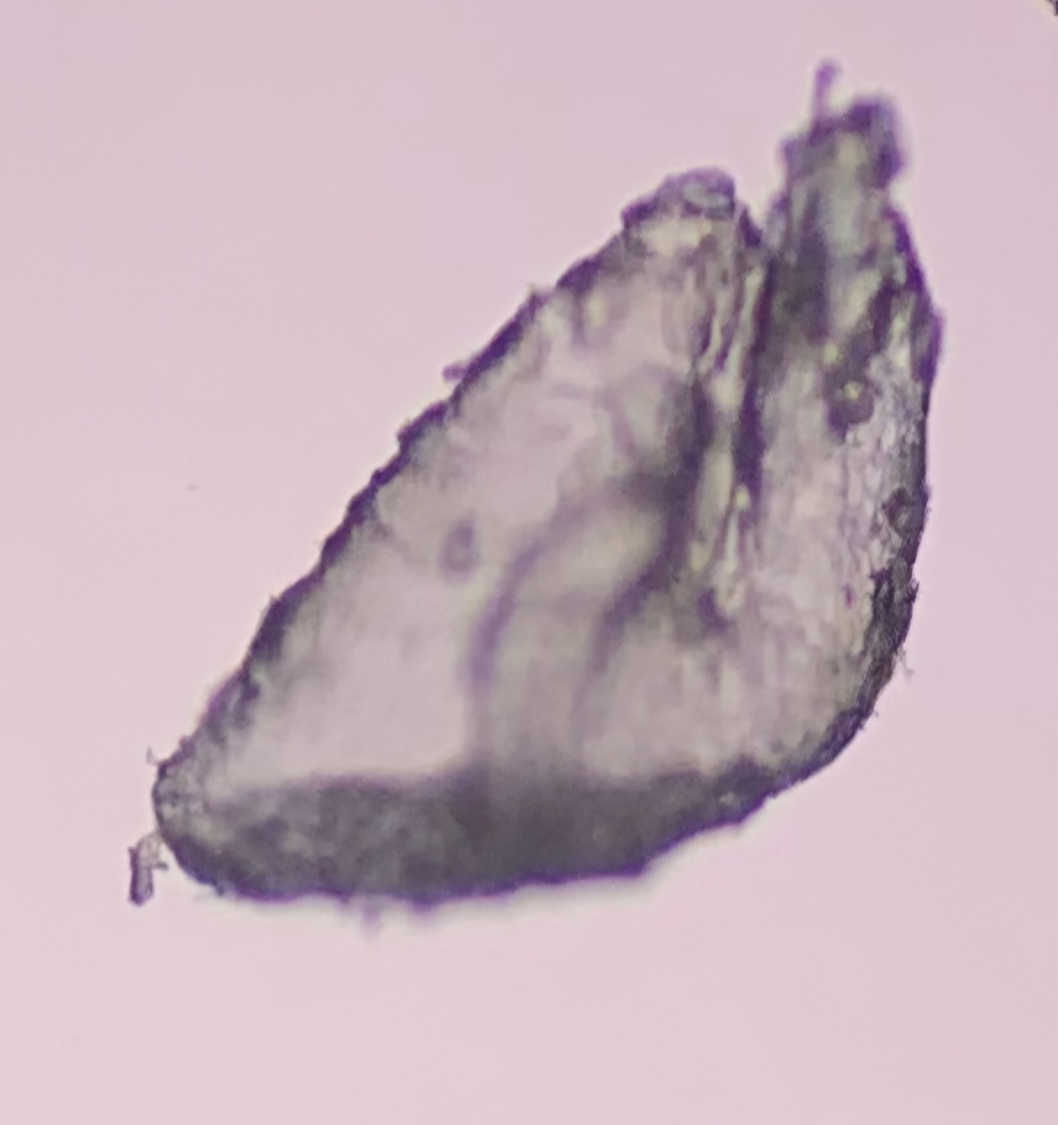microplastic: (124, 53, 949, 912)
